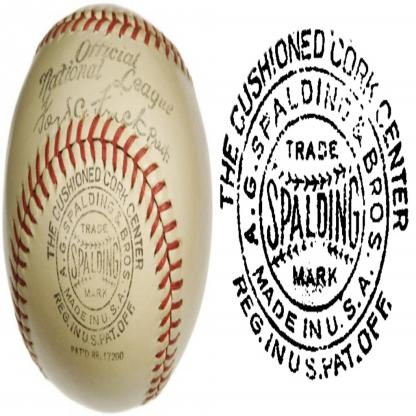Ball: (0, 1, 211, 412)
